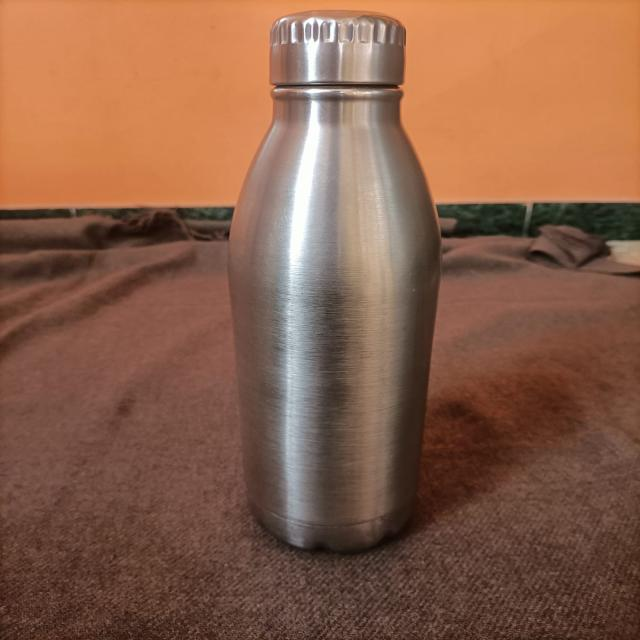bottle: (155, 0, 502, 582)
